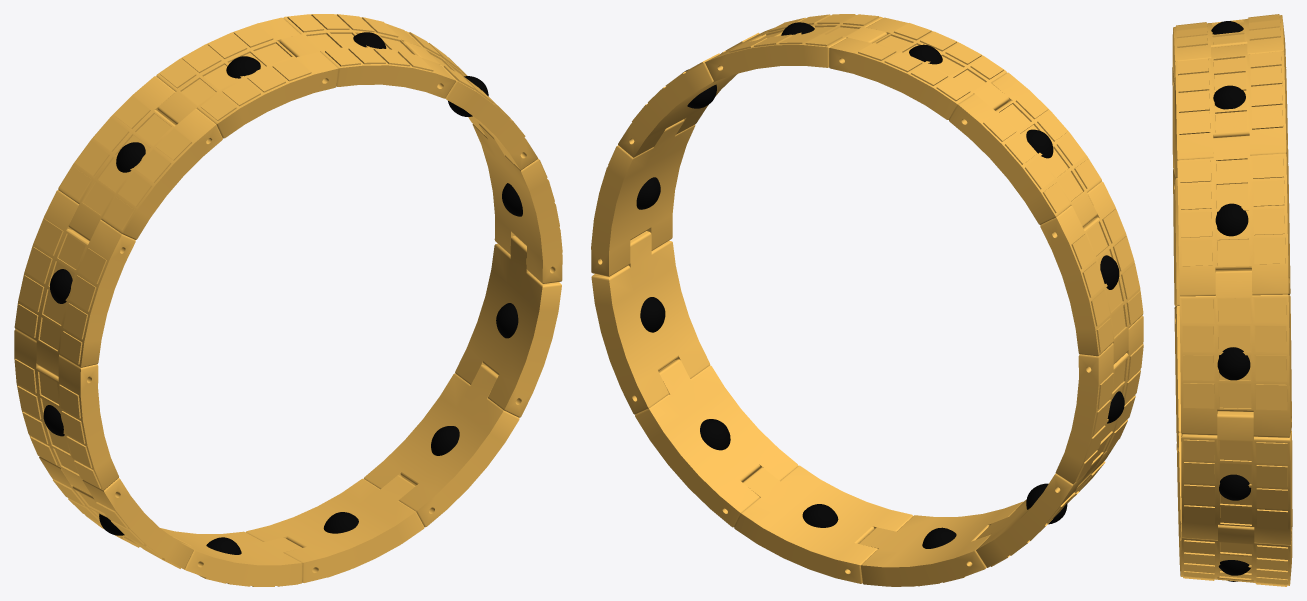
Rendered from gold_bracelet.glb.
The picture shows the model from 3 angles, left to right: view 1: azimuth 30°, elevation 25°; view 2: azimuth 150°, elevation 25°; view 3: azimuth 270°, elevation 25°; orthographic projection. The views are drawn at different scales.
Parts seen in each view (by area): view 1: Cube_2, Sphere_4; view 2: Cube_2, Sphere_4; view 3: Cube_2, Sphere_4.
Boxes of the visible parts, <box> form: Cube_2: <box>14,14,562,586</box>; Sphere_4: <box>43,32,522,554</box>; Cube_2: <box>591,14,1143,586</box>; Sphere_4: <box>636,22,1124,548</box>; Cube_2: <box>1172,14,1292,586</box>; Sphere_4: <box>1211,21,1250,581</box>.
Bounding box in the file's own units: 3.5 × 3.5 × 0.7333.
